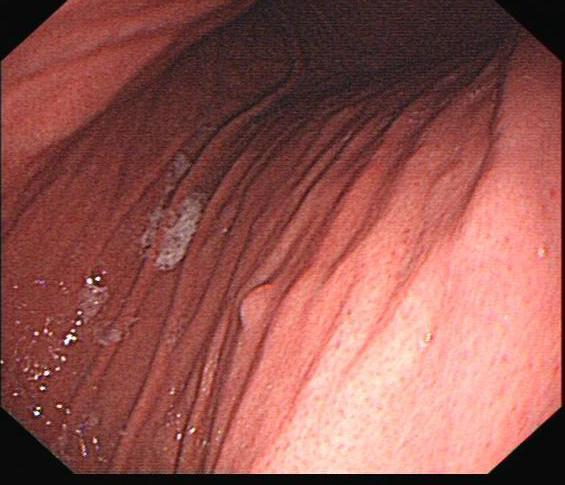Polyp: (230, 270, 285, 332)
